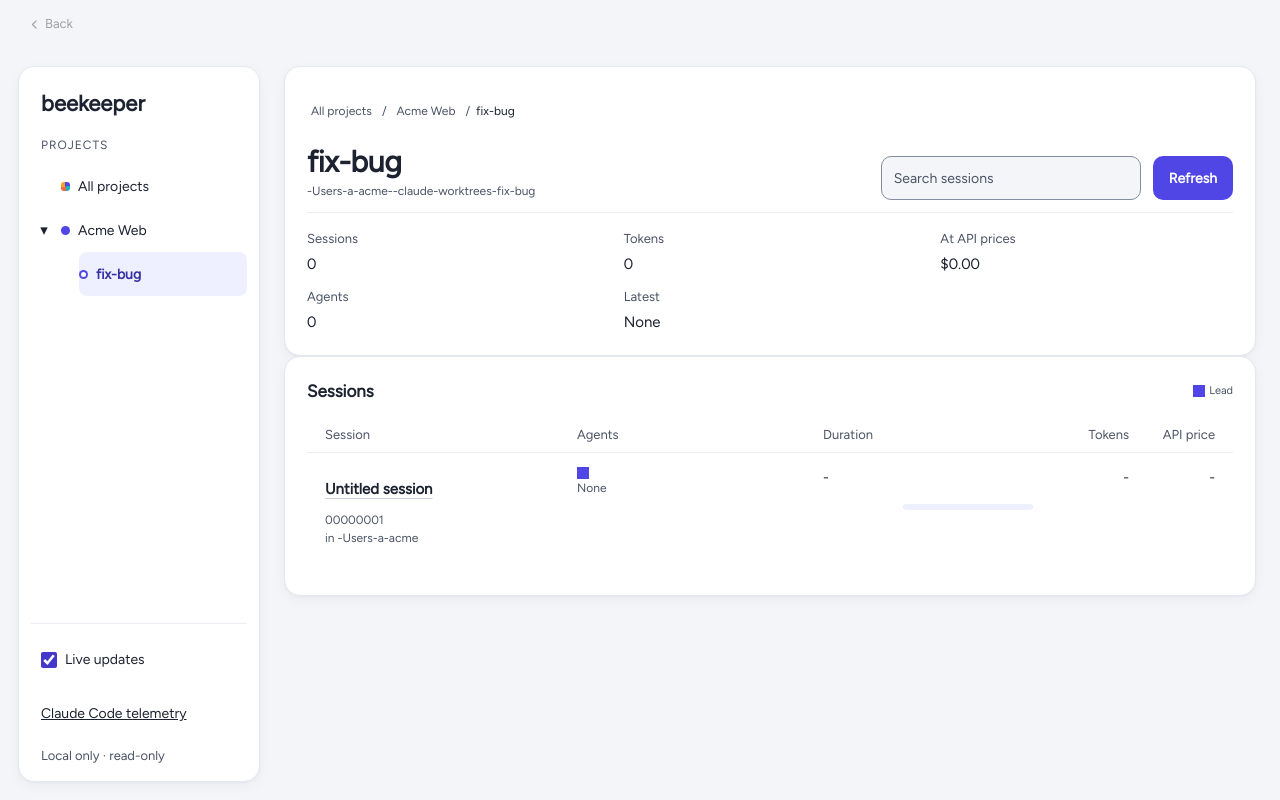
Test: SessionsView breadcrumb for a worktree › selects the parent and shows its sessions when the parent's name is pressed
Click the 1st button "Acme Web" at (426, 111), box [393, 89, 460, 133]
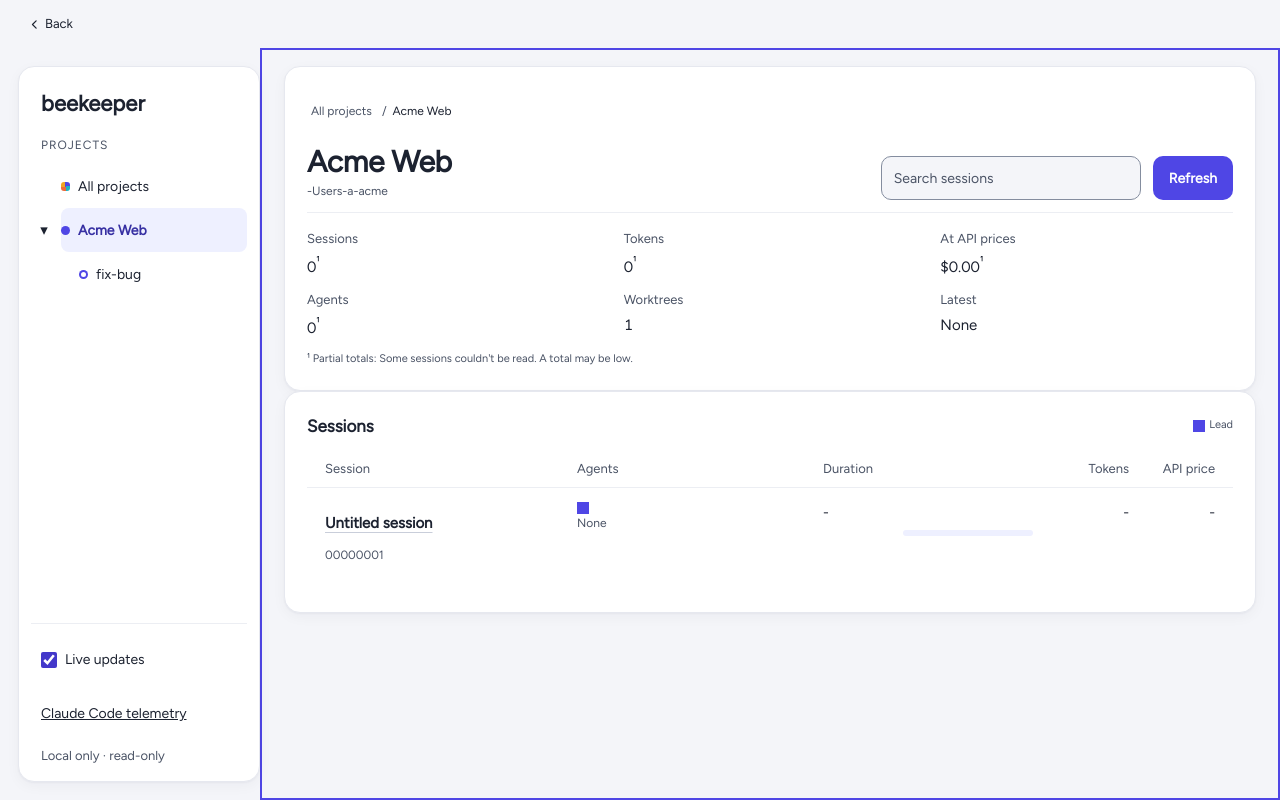
expect the heading "Acme Web" is shown: met, box [307, 145, 452, 178]
